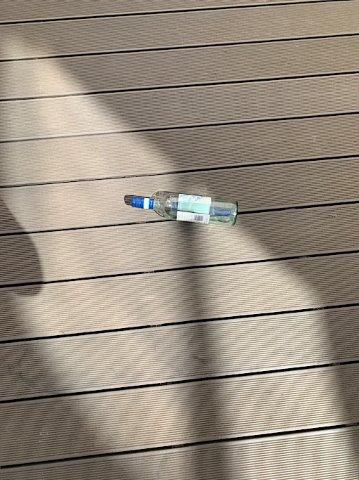botolkaca: (130, 191, 238, 225)
